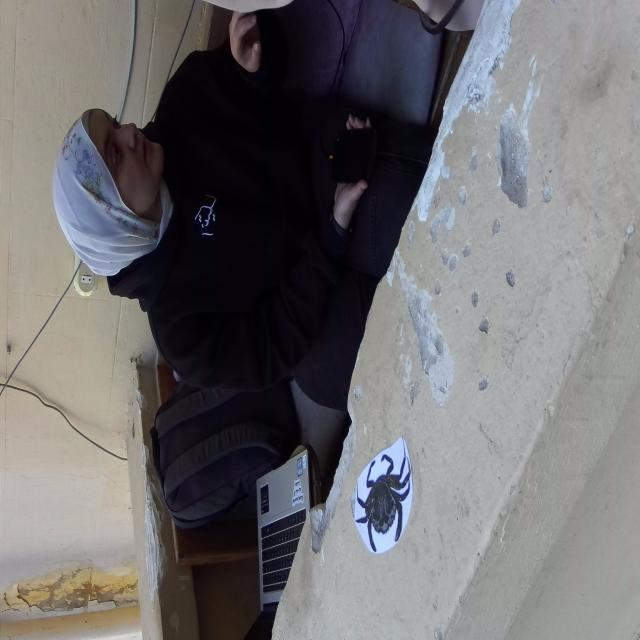European_Green_Crab: (346, 439, 423, 564)
